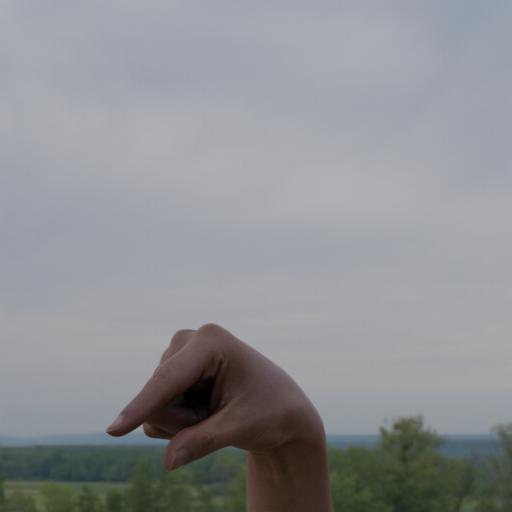Q: (93, 313, 333, 512)
